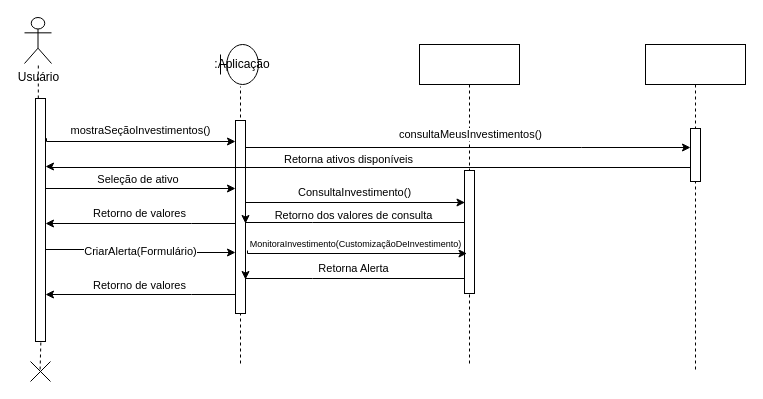
Some shapes in this 763 by 399 pixel diagram are drawn without their labels. Each missing label, with the centre of its shape:
"B3" belongs at [469,205].
"Carteira" belongs at [695,207].
